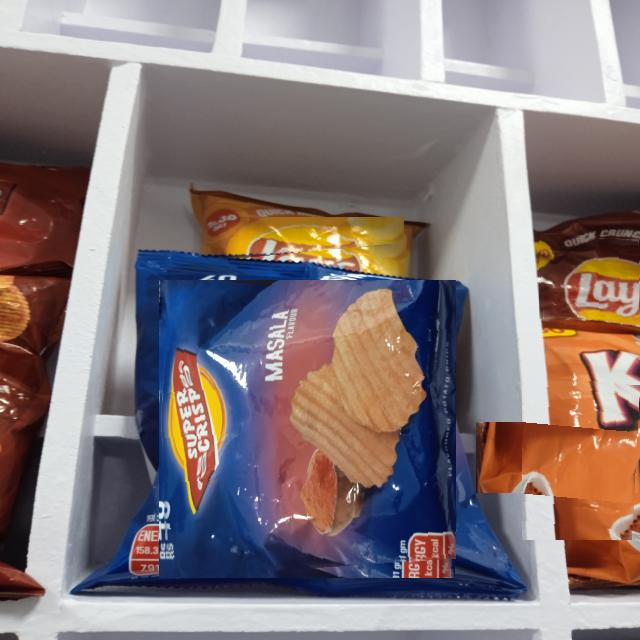Plastic: (159, 280, 456, 578), (522, 375, 640, 540), (203, 217, 405, 262), (540, 236, 640, 320)
